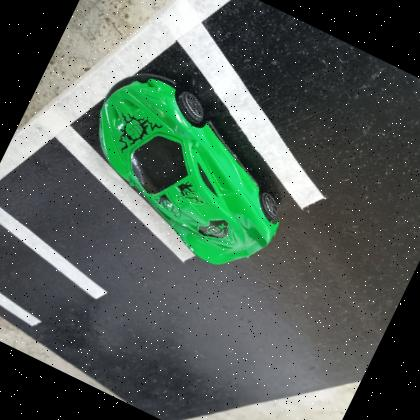Car: (97, 74, 279, 264)
